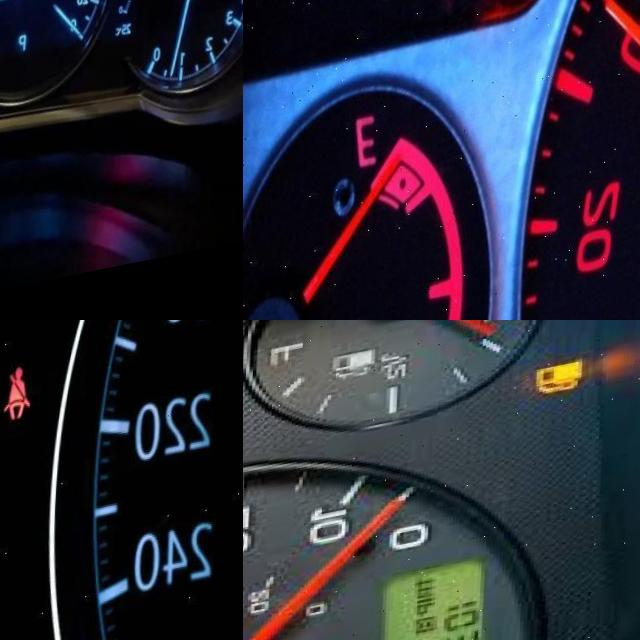Seat Belt: (4, 378, 41, 437)
